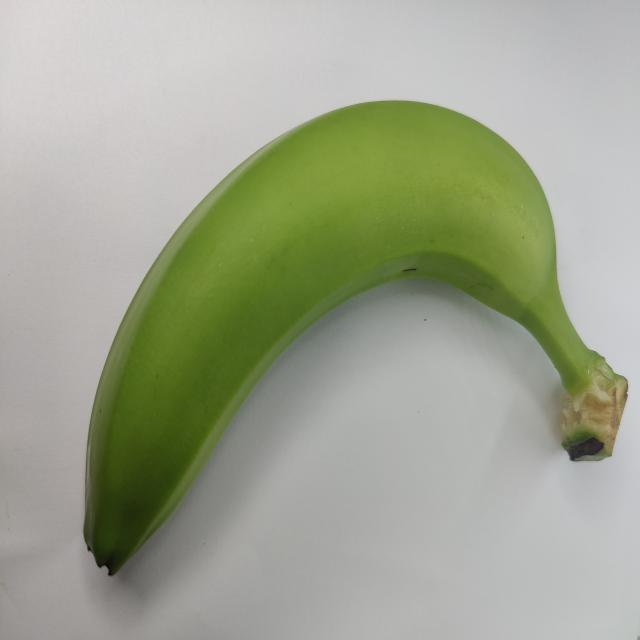Raw: (38, 65, 636, 588)
